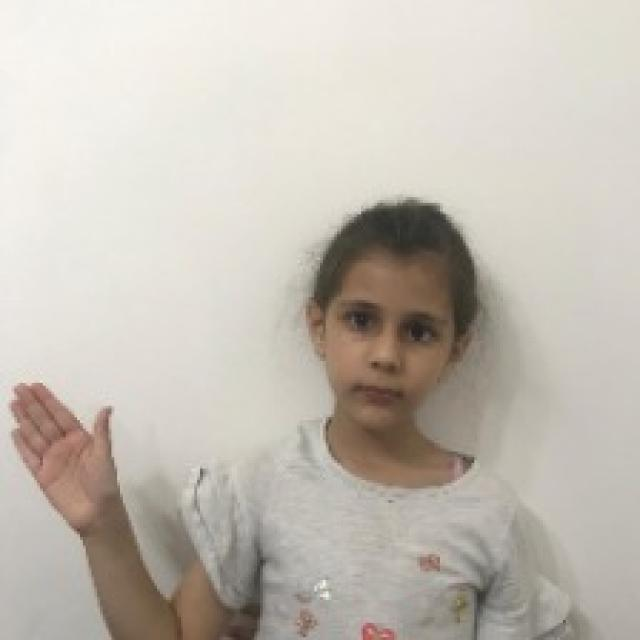Hello: (9, 361, 124, 532)
